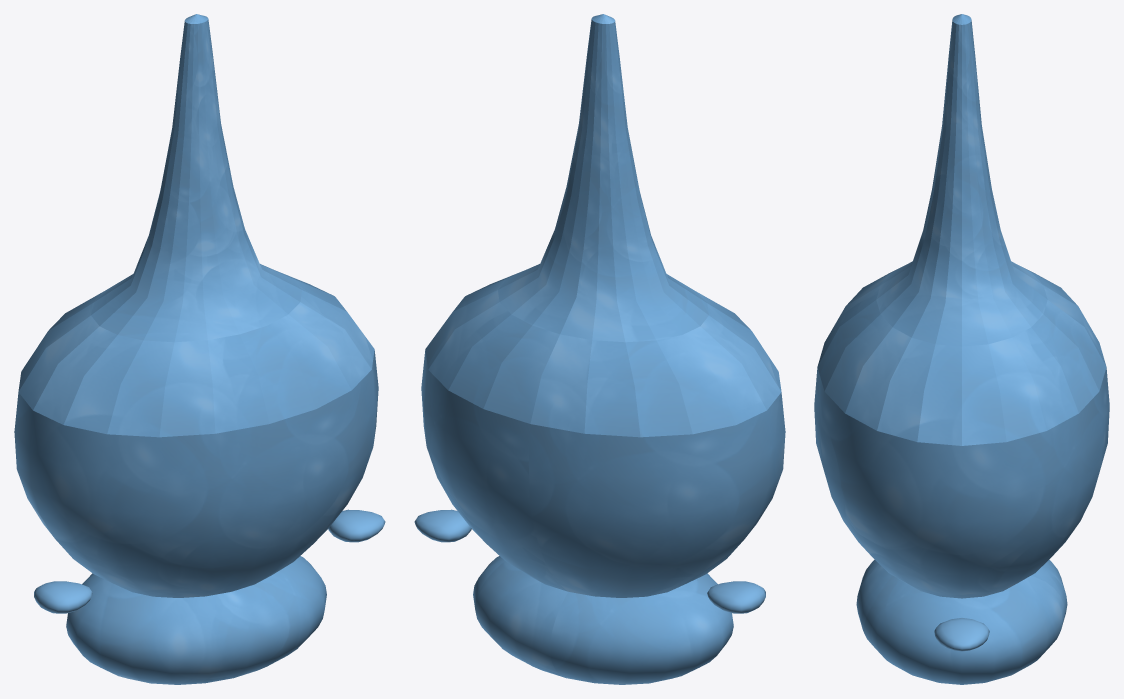
The model's file is Ice_form.fbx.
The picture shows the model from 3 angles, left to right: view 1: azimuth 30°, elevation 25°; view 2: azimuth 150°, elevation 25°; view 3: azimuth 270°, elevation 25°; orthographic projection.
Parts seen in each view (by area): view 1: Upper_body, Lower_body, R_Hand, L_Hand; view 2: Upper_body, Lower_body, R_Hand, L_Hand; view 3: Upper_body, Lower_body, L_Hand.
Boxes of the visible parts, x1,y1,x2,y2 form: Upper_body: (14,14,378,597); Lower_body: (66,556,326,684); R_Hand: (34,581,92,613); L_Hand: (328,509,385,542); Upper_body: (421,14,785,597); Lower_body: (473,556,733,684); R_Hand: (707,581,765,613); L_Hand: (414,509,471,542); Upper_body: (814,14,1109,598); Lower_body: (856,559,1067,684); L_Hand: (934,618,989,651).
Bounding box in the file's own units: 3.63 × 6.39 × 2.65.
